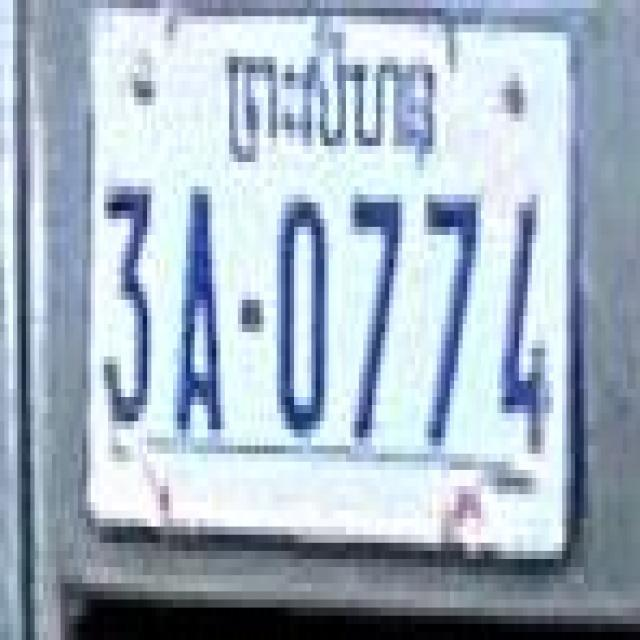Preah_Sihanouk: (225, 24, 432, 170)
